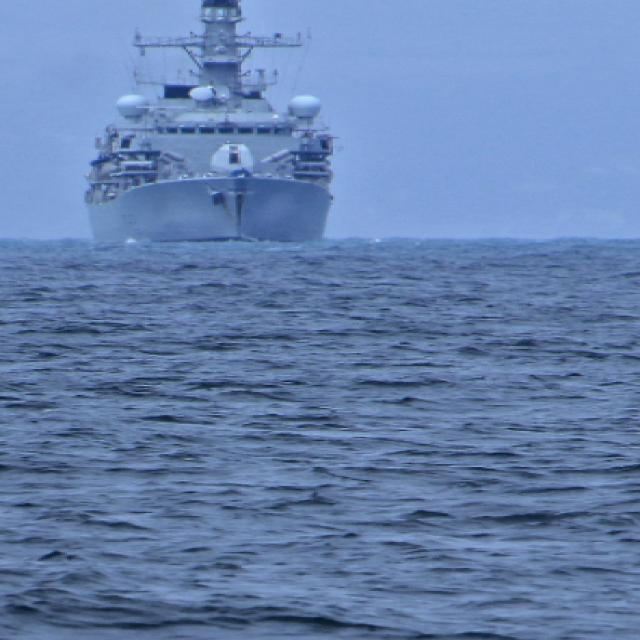Fragata: (79, 1, 364, 249)
